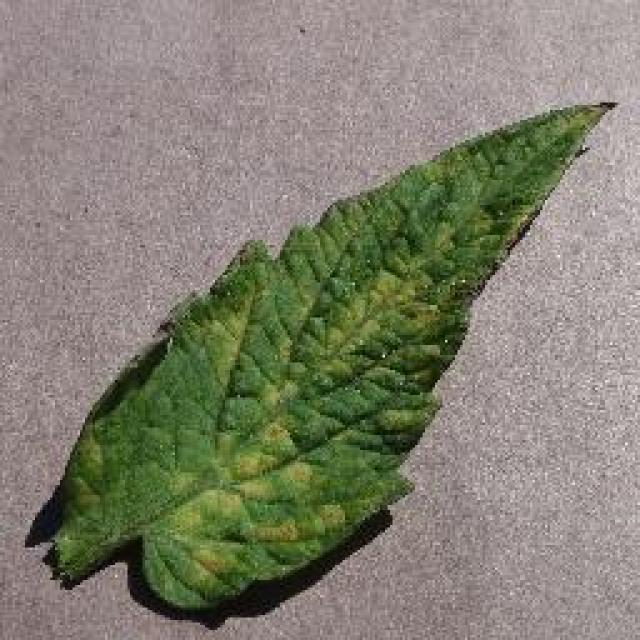Tomato mold leaf: (47, 100, 612, 608)
